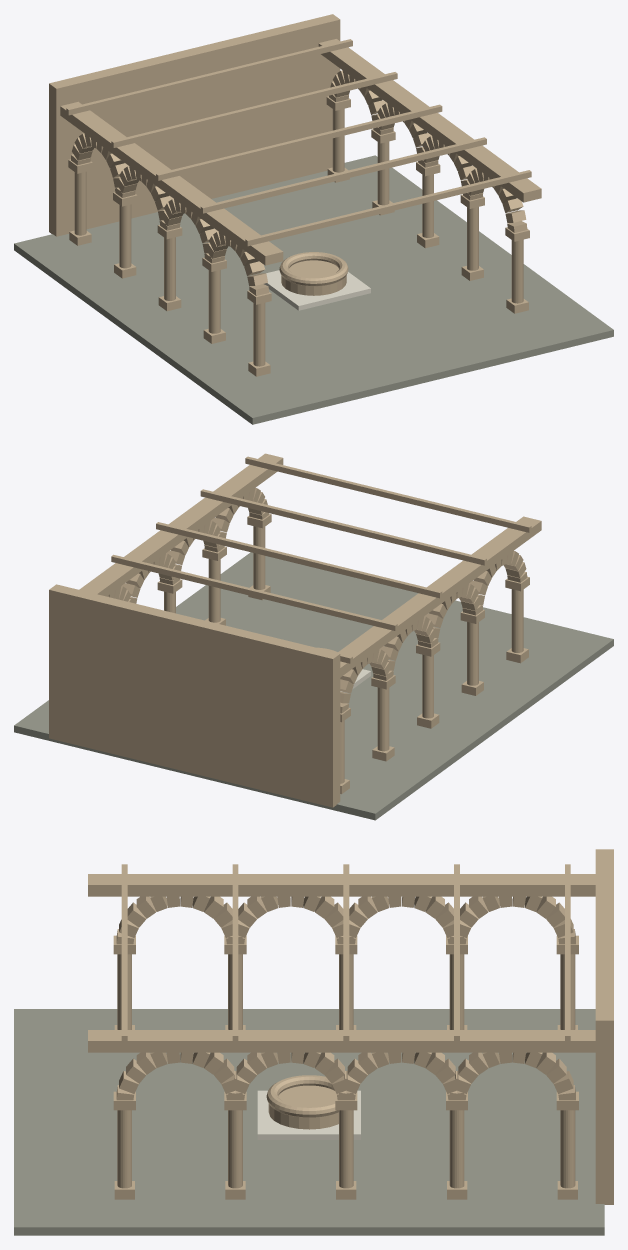
3 views of the same model, one above another, from view 1: azimuth 30°, elevation 25°; view 2: azimuth 150°, elevation 25°; view 3: azimuth 270°, elevation 25° (orthographic). The views are drawn at different scales.
Visible parts, largest first — view 1: Courtyard floor, Rear wall, Arcade cornice, Arcade cornice.001, Museum roof beam, Museum roof beam.002, Museum roof beam.001, Museum roof beam.004, Museum roof beam.003, Renaissance plinth, Wellhead base, Wellhead rim (+10 smaller); view 2: Rear wall, Courtyard floor, Arcade cornice, Arcade cornice.001, Museum roof beam.001, Museum roof beam, Museum roof beam.002, Museum roof beam.003, Arcade column.003, Arcade column, Arcade column.002, Arcade column.001 (+2 smaller); view 3: Courtyard floor, Arcade cornice.001, Arcade cornice, Rear wall, Wellhead base, Renaissance plinth, Wellhead rim, Museum roof beam, Museum roof beam.001, Museum roof beam.002, Arcade column.008, Arcade column.009 (+10 smaller).
Boxes of the visible parts, x1=… form: Courtyard floor: x1=14, y1=155, x2=613, y2=424; Rear wall: x1=49, y1=14, x2=340, y2=236; Arcade cornice: x1=60, y1=101, x2=283, y2=265; Arcade cornice.001: x1=318, y1=39, x2=541, y2=202; Museum roof beam: x1=245, y1=170, x2=531, y2=246; Museum roof beam.002: x1=156, y1=104, x2=442, y2=180; Museum roof beam.001: x1=200, y1=137, x2=486, y2=213; Museum roof beam.004: x1=66, y1=39, x2=352, y2=115; Museum roof beam.003: x1=111, y1=72, x2=397, y2=147; Renaissance plinth: x1=264, y1=270, x2=370, y2=310; Wellhead base: x1=281, y1=260, x2=346, y2=295; Wellhead rim: x1=279, y1=252, x2=348, y2=286; Rear wall: x1=49, y1=584, x2=340, y2=807; Courtyard floor: x1=14, y1=552, x2=613, y2=820; Arcade cornice: x1=337, y1=516, x2=541, y2=677; Arcade cornice.001: x1=79, y1=453, x2=283, y2=596; Museum roof beam.001: x1=200, y1=489, x2=486, y2=565; Museum roof beam: x1=245, y1=456, x2=531, y2=532; Museum roof beam.002: x1=156, y1=522, x2=442, y2=598; Museum roof beam.003: x1=111, y1=554, x2=397, y2=630; Arcade column.003: x1=377, y1=687, x2=389, y2=751; Arcade column: x1=511, y1=589, x2=523, y2=652; Arcade column.002: x1=422, y1=654, x2=433, y2=718; Arcade column.001: x1=467, y1=622, x2=478, y2=685; Courtyard floor: x1=14, y1=1009, x2=604, y2=1235; Arcade cornice.001: x1=88, y1=1030, x2=595, y2=1052; Arcade cornice: x1=88, y1=874, x2=595, y2=896; Rear wall: x1=595, y1=849, x2=613, y2=1204; Wellhead base: x1=268, y1=1085, x2=338, y2=1129; Renaissance plinth: x1=257, y1=1090, x2=360, y2=1139; Wellhead rim: x1=266, y1=1075, x2=338, y2=1117; Museum roof beam: x1=121, y1=864, x2=127, y2=1042; Museum roof beam.001: x1=232, y1=864, x2=238, y2=1042; Museum roof beam.002: x1=343, y1=864, x2=349, y2=1042; Arcade column.008: x1=449, y1=1110, x2=464, y2=1188; Arcade column.009: x1=560, y1=1110, x2=575, y2=1188.
Bounding box in the file's own units: 14 × 5.73 × 16.25.
